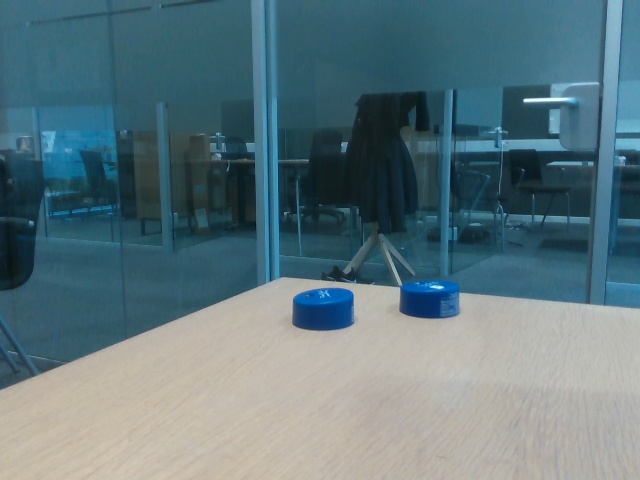alfa: (394, 272, 464, 322), (292, 285, 358, 331)
